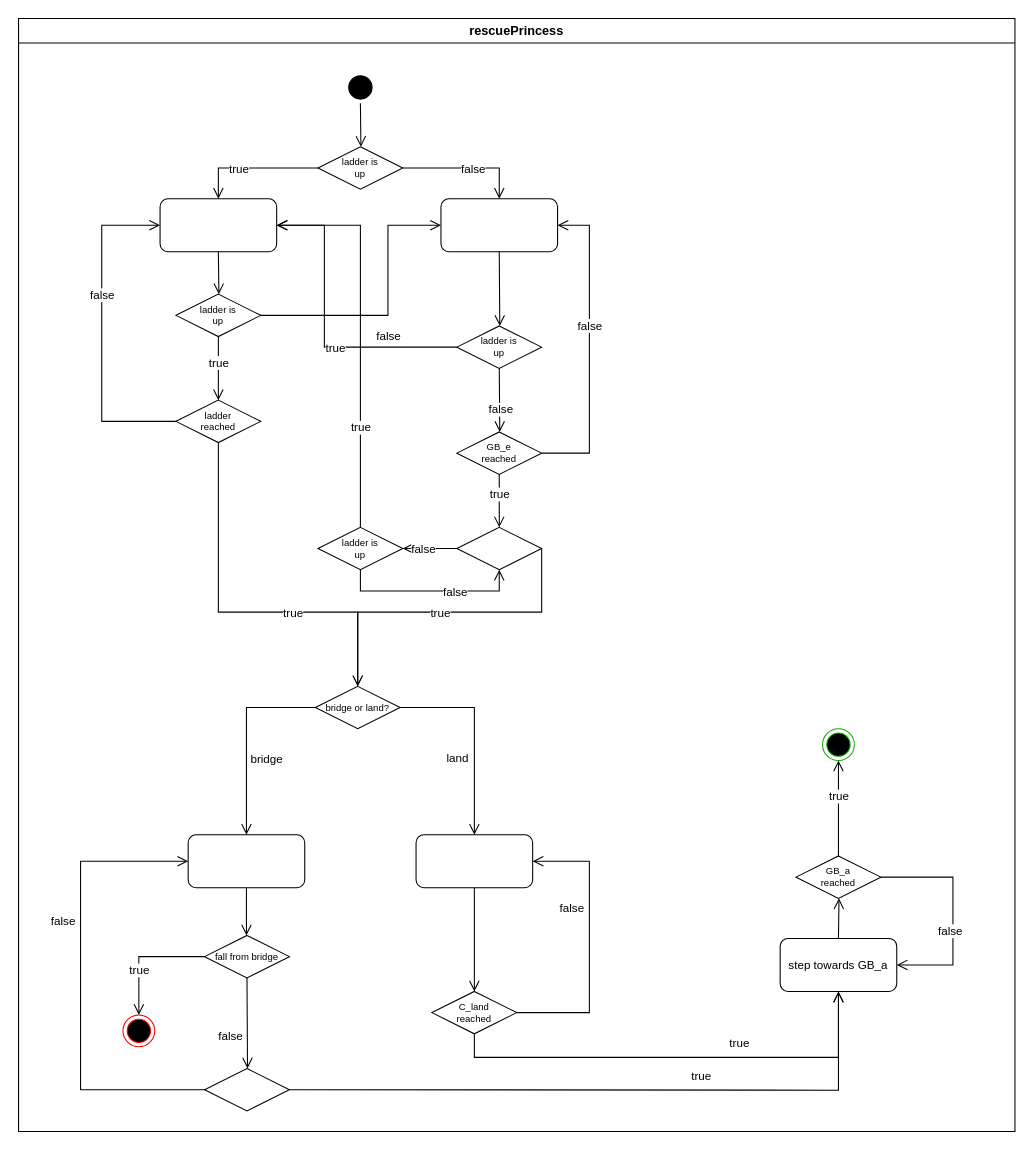
Image size: 1034x1150. Some labels were removed from this diagram. Here are the shapes that lost their labels. From the top down, the centre of each, then its label:
At pixel 218 225: "step towards ladder".
At pixel 499 225: "step towards GB_e".
At pixel 499 548: "gate is broken".
At pixel 246 861: "step towards C_bridge".
At pixel 474 861: "step towards C_land".
At pixel 246 1089: "C_bridge reached".
